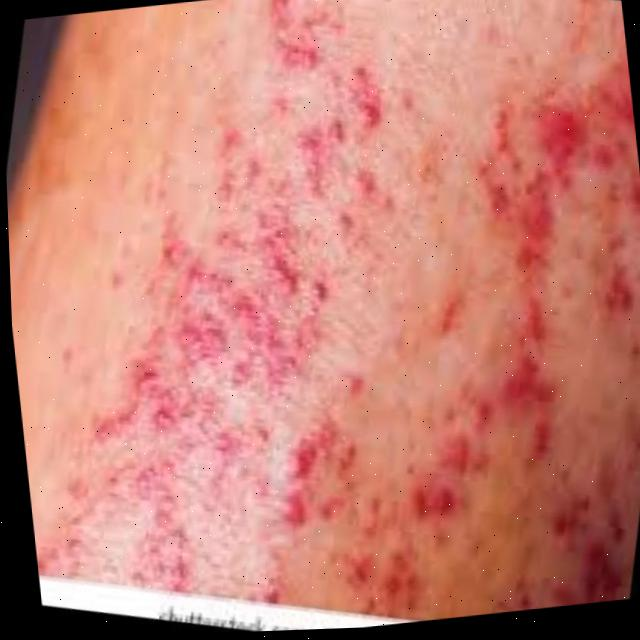Eczema: (3, 41, 640, 627)
